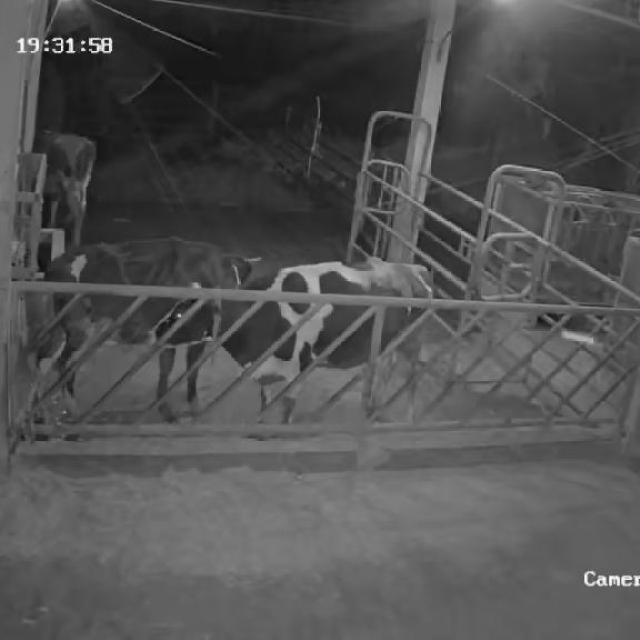standing: (143, 262, 436, 439), (45, 240, 256, 437), (25, 127, 98, 241)
